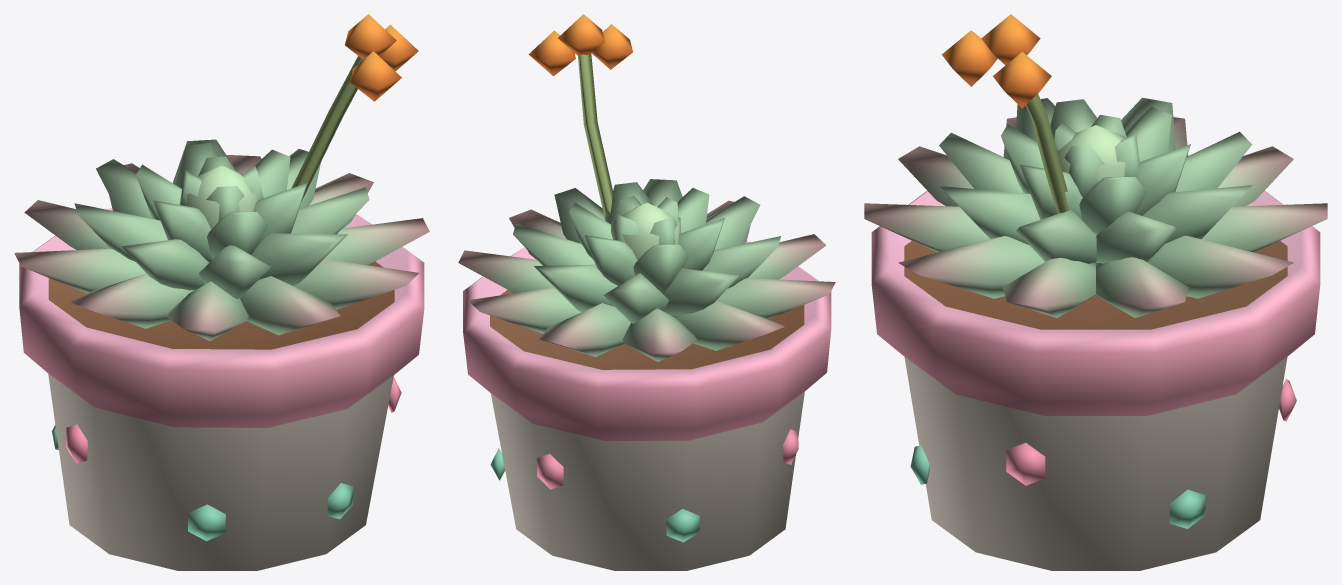
The model's file is furn-succulent.glb.
The picture shows the model from 3 angles, left to right: view 1: azimuth 30°, elevation 25°; view 2: azimuth 150°, elevation 25°; view 3: azimuth 270°, elevation 25°; orthographic projection. The views are drawn at different scales.
Visible parts, largest first — view 1: furn-succulent; view 2: furn-succulent; view 3: furn-succulent.
Boxes of the visible parts, x1,y1,x2,y2 form: furn-succulent: (14, 14, 429, 570); furn-succulent: (458, 14, 835, 570); furn-succulent: (864, 14, 1327, 570).
Bounding box in the file's own units: 0.1594 × 0.2136 × 0.1634.
